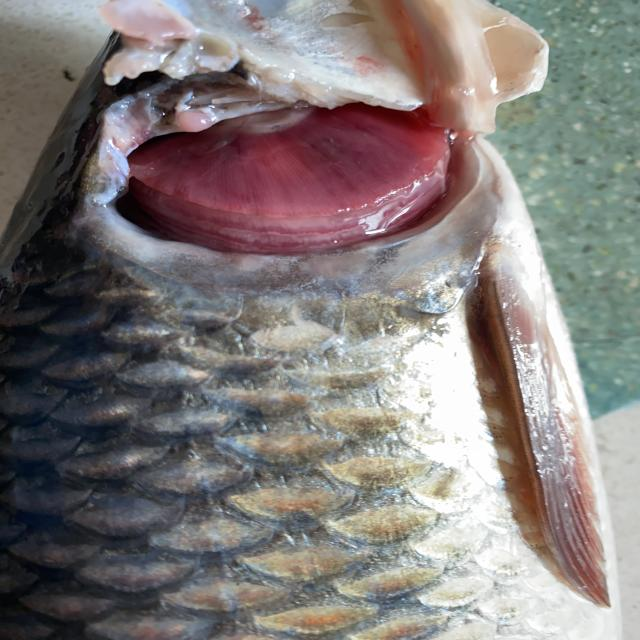Fresh: (111, 92, 495, 268)
